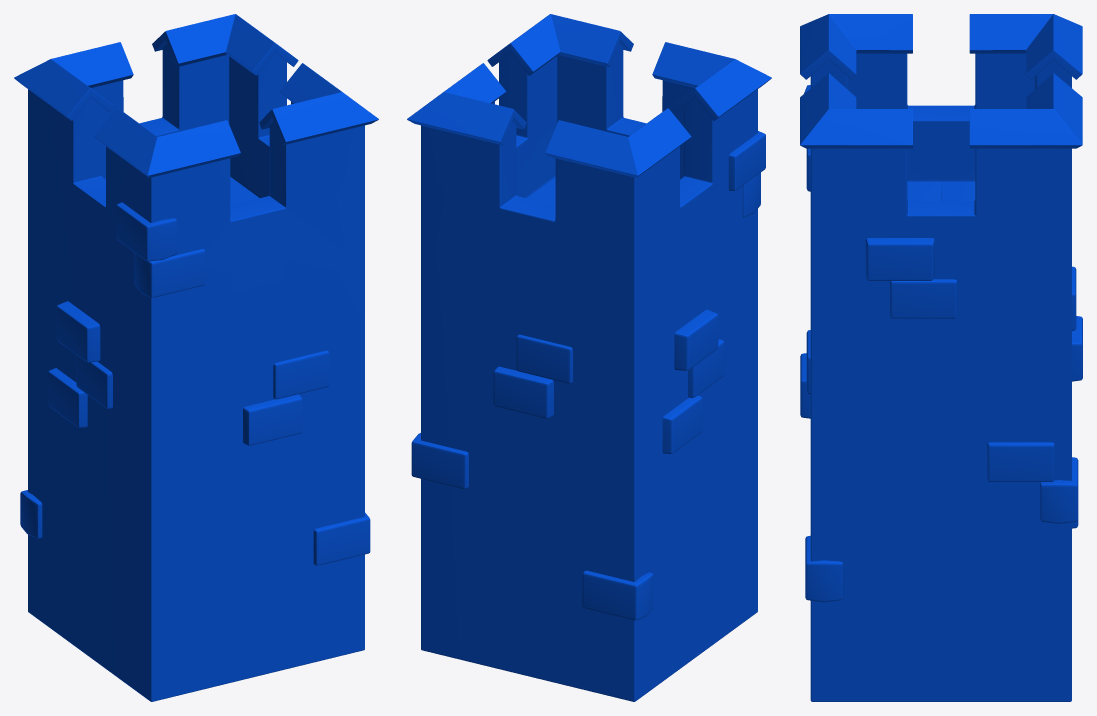
Rendered from Tower_LowRes_V2.fbx.
The picture shows the model from 3 angles, left to right: view 1: azimuth 30°, elevation 25°; view 2: azimuth 150°, elevation 25°; view 3: azimuth 270°, elevation 25°; orthographic projection. The views are drawn at different scales.
Parts seen in each view (by area): view 1: TowerSegment; view 2: TowerSegment; view 3: TowerSegment.
Part boxes in pixels (left/top/right/bottom): TowerSegment: left=14, top=14, right=378, bottom=701; TowerSegment: left=407, top=14, right=771, bottom=701; TowerSegment: left=800, top=14, right=1082, bottom=701.
Size of what is drawn, in the model's own units: 3.32 by 7.43 by 3.25.
